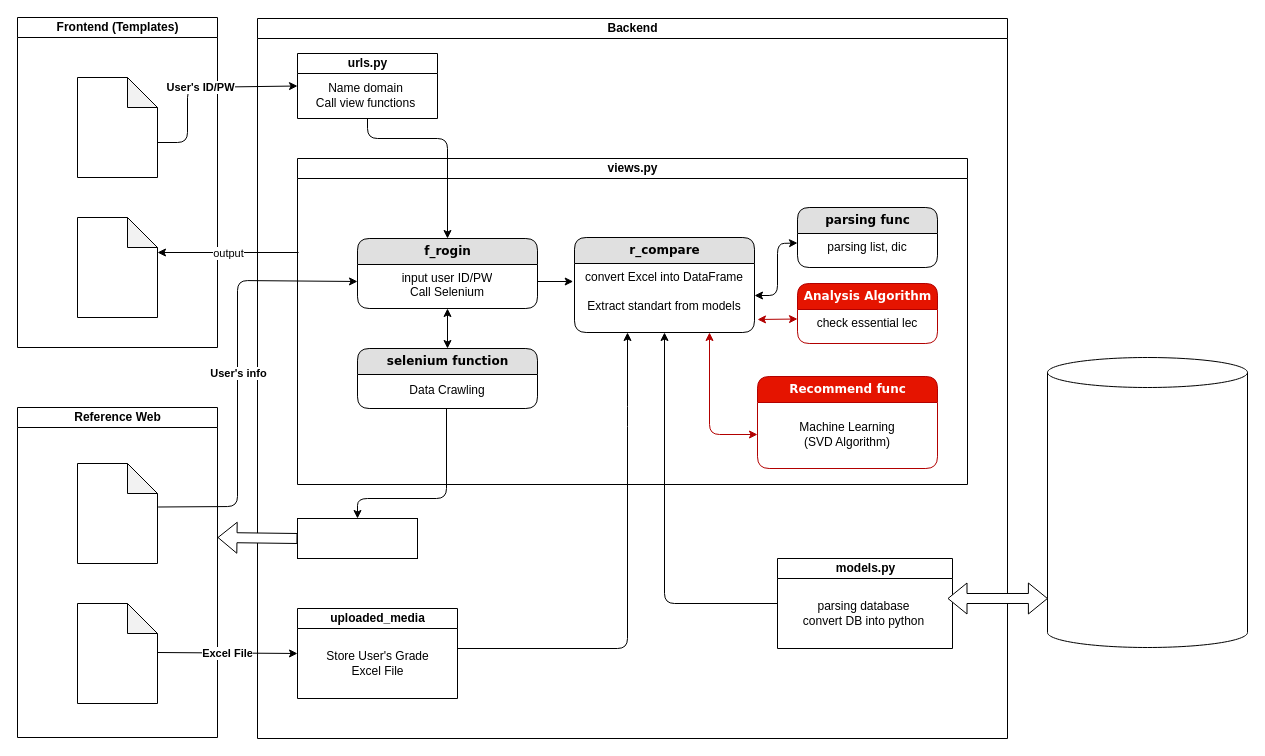
The diagram is 1265 pixels wide and 756 high, and some of its shapes have lost their labels. The shapes that lost their labels are listed below. From the top down, each one's centre as x and y in pixels, then its label:
point (117, 127): rogin.html
point (117, 267): result.html
point (117, 513): 고전독서 인증센터
point (1147, 502): Databse(MySQL) graduate_help
point (357, 538): chromediver.exe
point (117, 653): uis
